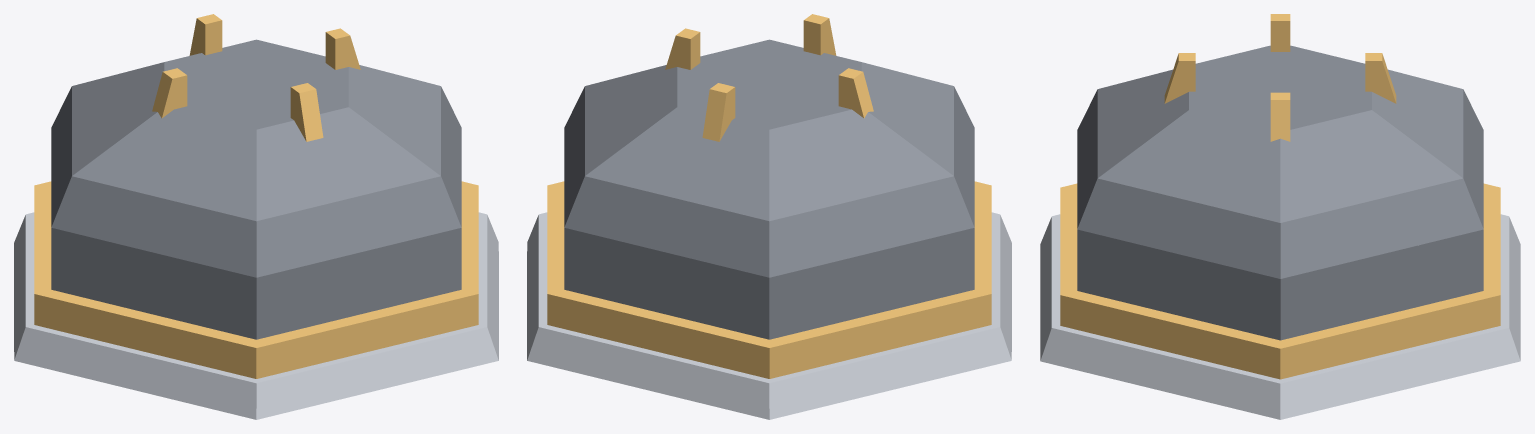
The model's file is tech.glb.
3 renders of one model, left to right at view 1: azimuth 30°, elevation 25°; view 2: azimuth 150°, elevation 25°; view 3: azimuth 270°, elevation 25°, orthographic.
Visible parts, largest first — view 1: hangar_roundGlass, rocket_baseA; view 2: hangar_roundGlass, rocket_baseA; view 3: hangar_roundGlass, rocket_baseA.
Part boxes in pixels (bbox=[...]): hangar_roundGlass: bbox=[14, 39, 498, 419]; rocket_baseA: bbox=[152, 14, 360, 141]; hangar_roundGlass: bbox=[527, 39, 1011, 419]; rocket_baseA: bbox=[665, 14, 873, 141]; hangar_roundGlass: bbox=[1040, 45, 1520, 419]; rocket_baseA: bbox=[1164, 14, 1396, 141].
Size of the model in its own units: 3.27 by 1.6 by 2.83.
